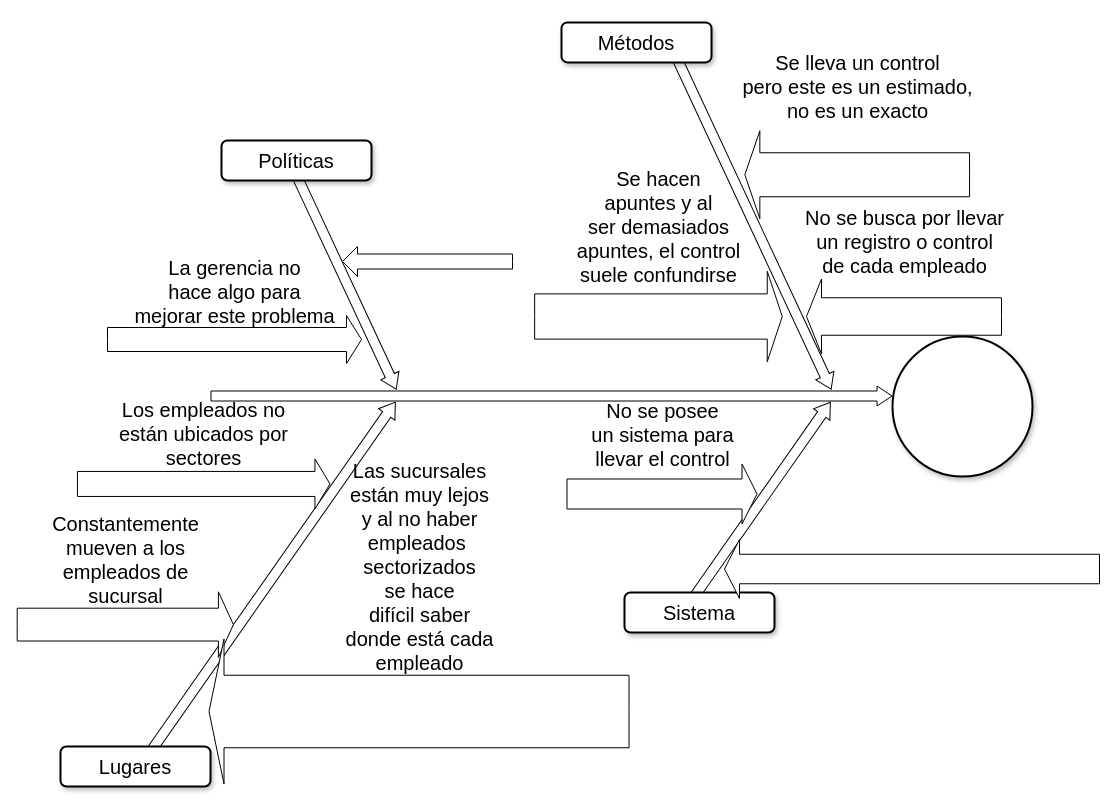
Image size: 1118x812. Some labels were removed from this diagram. The centre of each missing label's shape, as x and y in pixels:
Deficiencia de Control de Empleados: (963,407)
Formas muy ineficientes de llevar el control de los empleados: (912,568)
Políticas Inadecuadas: (427,261)
